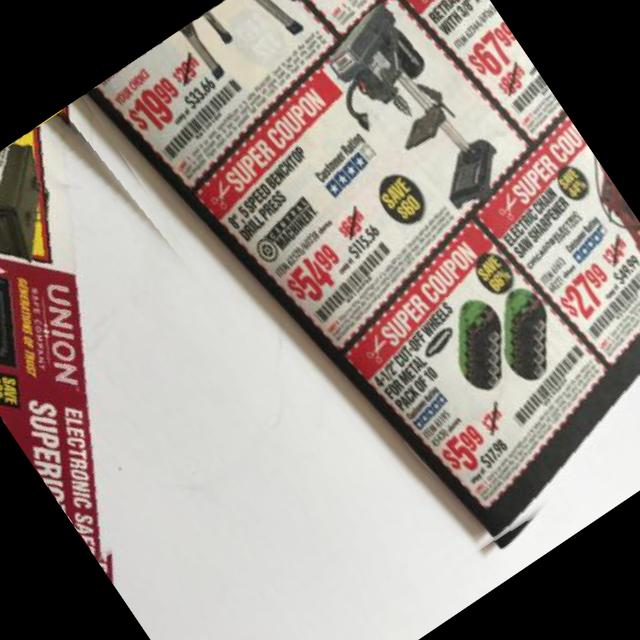PaperCardboard: (84, 0, 640, 539), (0, 109, 99, 560)
